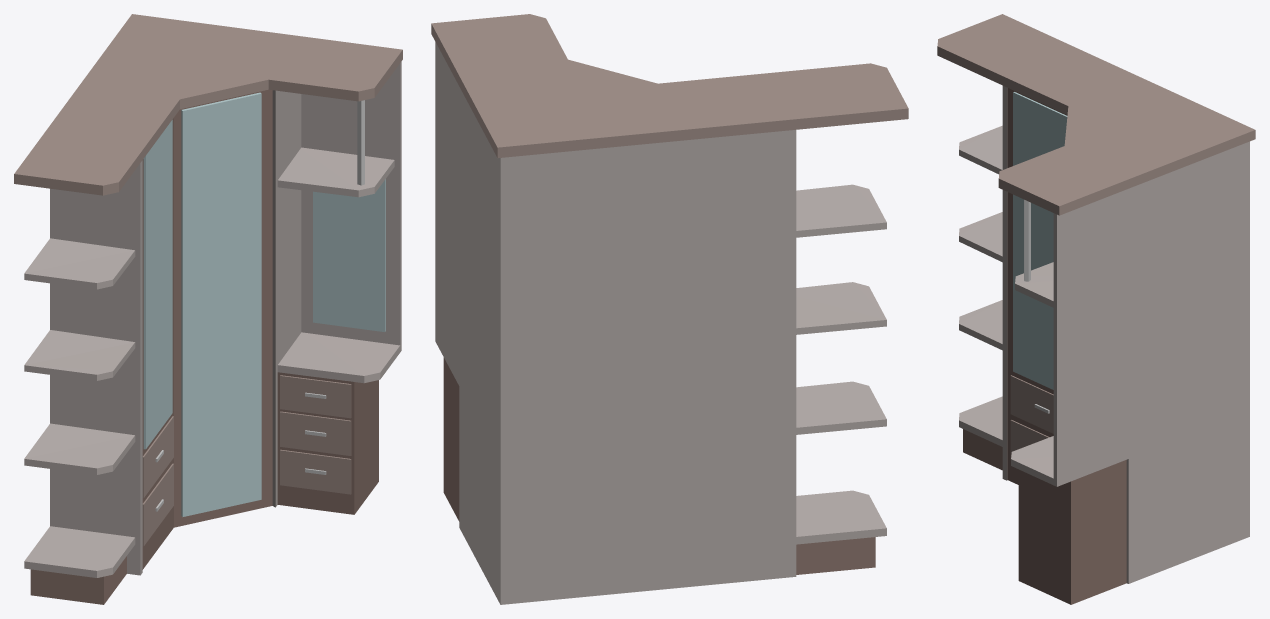
File: Almira.glb
3 renders of one model, left to right at view 1: azimuth 30°, elevation 25°; view 2: azimuth 150°, elevation 25°; view 3: azimuth 270°, elevation 25°, orthographic. The views are drawn at different scales.
Visible parts, largest first — view 1: New_Game_Object_mat0_0.039; view 2: New_Game_Object_mat0_0.039; view 3: New_Game_Object_mat0_0.039.
Boxes of the visible parts, box(x1,y1,x2,y2) form: New_Game_Object_mat0_0.039: box(14, 14, 402, 604); New_Game_Object_mat0_0.039: box(431, 14, 908, 604); New_Game_Object_mat0_0.039: box(937, 14, 1255, 604).
Size of the model in its own units: 2.5 by 2.46 by 1.75.
